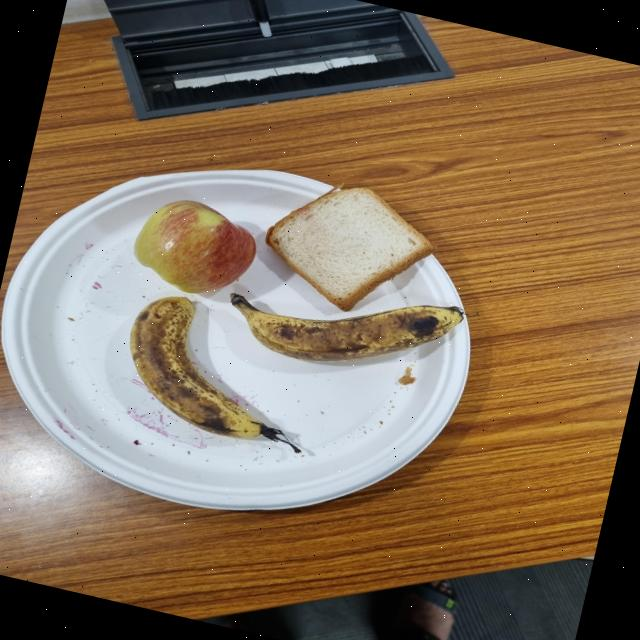apple: (248, 81, 372, 176)
banana: (65, 63, 246, 176), (181, 148, 266, 328)
